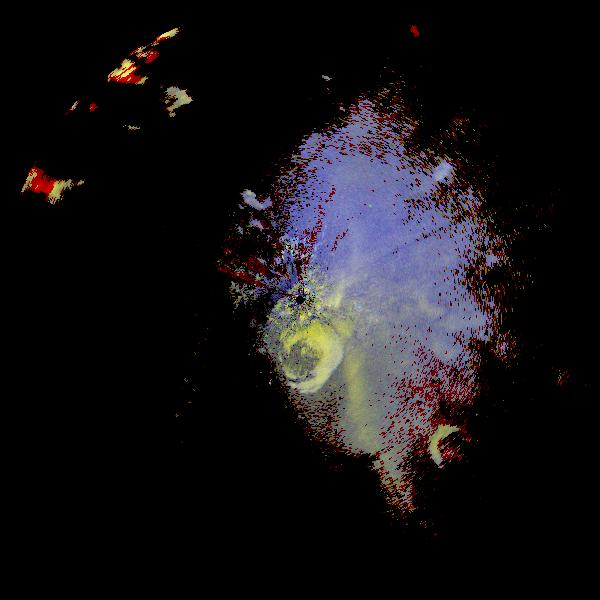roost: (260, 310, 356, 406), (400, 152, 493, 245), (422, 417, 491, 486)
